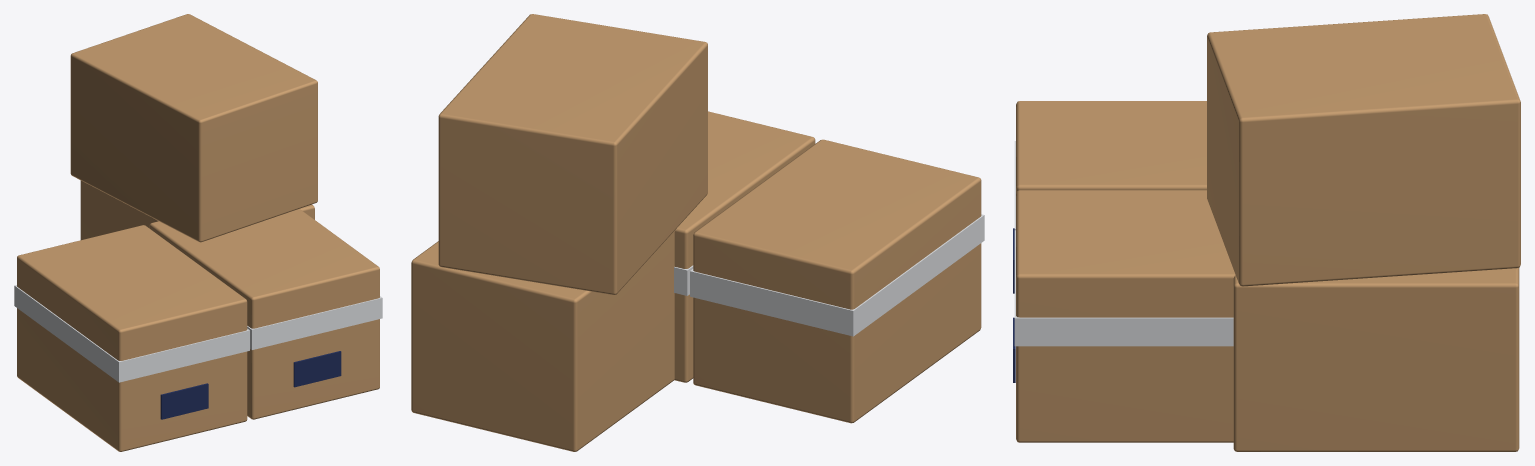
Rendered from PaperBoxStack.fbx.
3 renders of one model, left to right at view 1: azimuth 30°, elevation 25°; view 2: azimuth 150°, elevation 25°; view 3: azimuth 270°, elevation 25°, orthographic. The views are drawn at different scales.
Parts seen in each view (by area): view 1: PaperBoxStackBody; view 2: PaperBoxStackBody; view 3: PaperBoxStackBody.
Part boxes in pixels (x1,y1,x2,y2): PaperBoxStackBody: (14,14,382,451); PaperBoxStackBody: (411,14,984,451); PaperBoxStackBody: (1013,14,1520,451).
Bounding box in the file's own units: 0.7204 × 0.6 × 0.8178.
